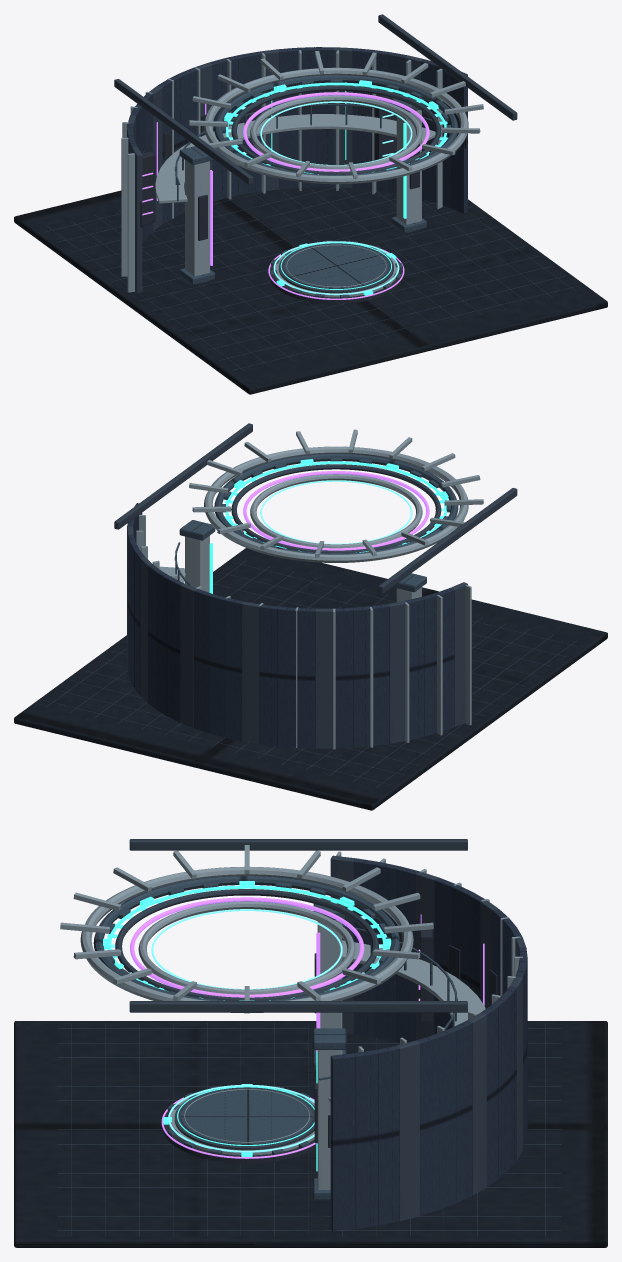
Rendered from synestra_reactor_decor_r212.glb.
3 views of the same model, one above another, from view 1: azimuth 30°, elevation 25°; view 2: azimuth 150°, elevation 25°; view 3: azimuth 270°, elevation 25° (orthographic). The views are drawn at different scales.
Parts seen in each view (by area): view 1: FLOOR_BASE, CEILING_01_MAIN, BASE_CONTACT_DISC, CEILING_02_RECESS, COLUMN_BODY_-1, CEILING_06_INNER_FRAME, CEILING_04_NECk, CEILING_LONGITUDINAL_TRUSS_-1, CEILING_LONGITUDINAL_TRUSS_1, COLUMN_BODY_1, WALL_SEGMENT_27, CEILING_05_VIOLET (+31 smaller); view 2: FLOOR_BASE, CEILING_01_MAIN, WALL_SEGMENT_09, WALL_SEGMENT_11, WALL_SEGMENT_10, WALL_SEGMENT_07, CEILING_02_RECESS, WALL_SEGMENT_08, WALL_SEGMENT_12, WALL_SEGMENT_06, WALL_SEGMENT_13, WALL_SEGMENT_05 (+27 smaller); view 3: FLOOR_BASE, BASE_CONTACT_DISC, CEILING_01_MAIN, WALL_SEGMENT_27, WALL_SEGMENT_26, CEILING_LONGITUDINAL_TRUSS_1, CEILING_LONGITUDINAL_TRUSS_-1, WALL_SEGMENT_25, CEILING_02_RECESS, WALL_SEGMENT_24, CEILING_06_INNER_FRAME, CEILING_04_NECk (+32 smaller).
Boxes of the visible parts, bbox=[...] form: FLOOR_BASE: bbox=[14, 187, 607, 394]; CEILING_01_MAIN: bbox=[204, 67, 468, 184]; BASE_CONTACT_DISC: bbox=[284, 244, 388, 288]; CEILING_02_RECESS: bbox=[214, 75, 458, 175]; COLUMN_BODY_-1: bbox=[185, 160, 209, 284]; CEILING_06_INNER_FRAME: bbox=[250, 95, 422, 169]; CEILING_04_NECk: bbox=[231, 85, 441, 174]; CEILING_LONGITUDINAL_TRUSS_-1: bbox=[114, 79, 252, 184]; CEILING_LONGITUDINAL_TRUSS_1: bbox=[378, 14, 517, 120]; COLUMN_BODY_1: bbox=[396, 110, 421, 232]; WALL_SEGMENT_27: bbox=[450, 71, 467, 213]; CEILING_05_VIOLET: bbox=[243, 92, 429, 171]; FLOOR_BASE: bbox=[14, 548, 607, 810]; CEILING_01_MAIN: bbox=[204, 446, 468, 562]; WALL_SEGMENT_09: bbox=[297, 608, 315, 748]; WALL_SEGMENT_11: bbox=[259, 604, 278, 746]; WALL_SEGMENT_10: bbox=[277, 606, 295, 747]; WALL_SEGMENT_07: bbox=[335, 607, 353, 748]; CEILING_02_RECESS: bbox=[214, 453, 458, 554]; WALL_SEGMENT_08: bbox=[315, 608, 332, 748]; WALL_SEGMENT_12: bbox=[242, 601, 259, 744]; WALL_SEGMENT_06: bbox=[352, 606, 370, 747]; WALL_SEGMENT_13: bbox=[225, 598, 243, 741]; WALL_SEGMENT_05: bbox=[370, 604, 389, 745]; FLOOR_BASE: bbox=[14, 1021, 607, 1247]; BASE_CONTACT_DISC: bbox=[181, 1088, 312, 1144]; CEILING_01_MAIN: bbox=[80, 866, 413, 1013]; WALL_SEGMENT_27: bbox=[330, 1053, 355, 1231]; WALL_SEGMENT_26: bbox=[354, 1050, 378, 1228]; CEILING_LONGITUDINAL_TRUSS_1: bbox=[129, 1001, 467, 1012]; CEILING_LONGITUDINAL_TRUSS_-1: bbox=[129, 839, 467, 850]; WALL_SEGMENT_25: bbox=[376, 1045, 399, 1225]; CEILING_02_RECESS: bbox=[93, 875, 400, 1000]; WALL_SEGMENT_24: bbox=[396, 1040, 419, 1220]; CEILING_06_INNER_FRAME: bbox=[138, 901, 355, 994]; CEILING_04_NECk: bbox=[115, 889, 378, 1000].
Bounding box in the file's own units: 15.1 × 6.95 × 17.2.
9 materials, 3 textured.
